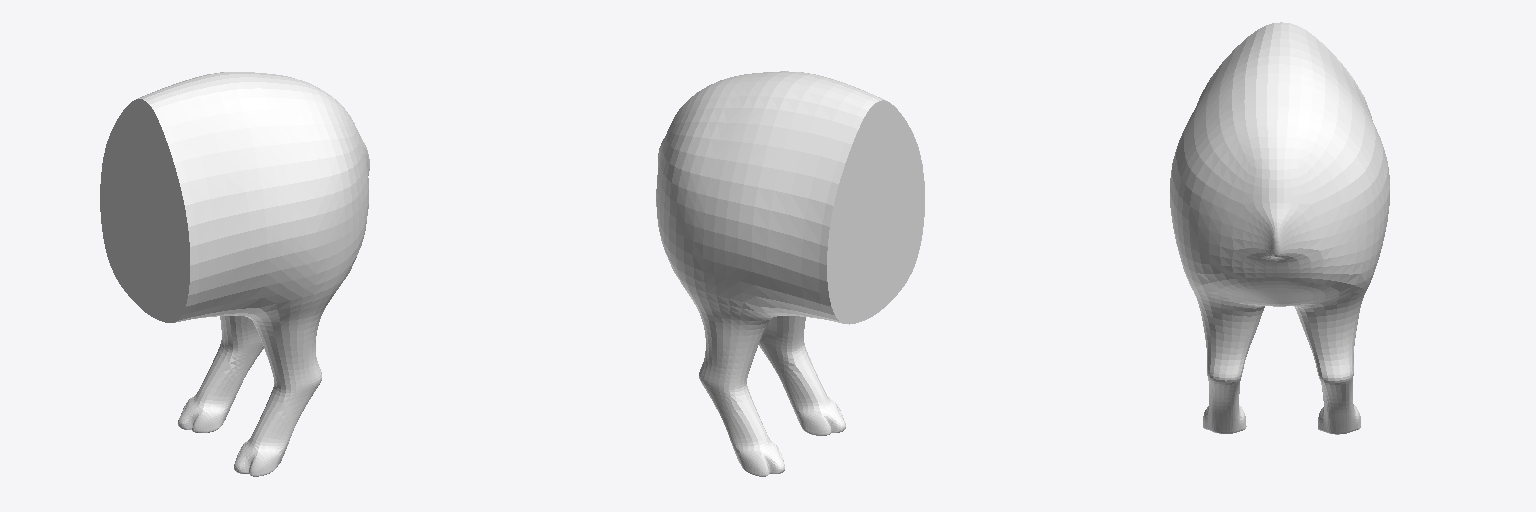
File: tapir_hinten.obj
The picture shows the model from 3 angles: view 1: azimuth 30°, elevation 25°; view 2: azimuth 150°, elevation 25°; view 3: azimuth 270°, elevation 25°; orthographic projection.
Visible parts, largest first — view 1: tapir.001; view 2: tapir.001; view 3: tapir.001.
Part boxes in pixels (left/top/right/bottom): tapir.001: left=100, top=72, right=369, bottom=476; tapir.001: left=656, top=71, right=924, bottom=476; tapir.001: left=1170, top=22, right=1389, bottom=434.
Size of the model in its own units: 2.91 by 4.64 by 2.5.